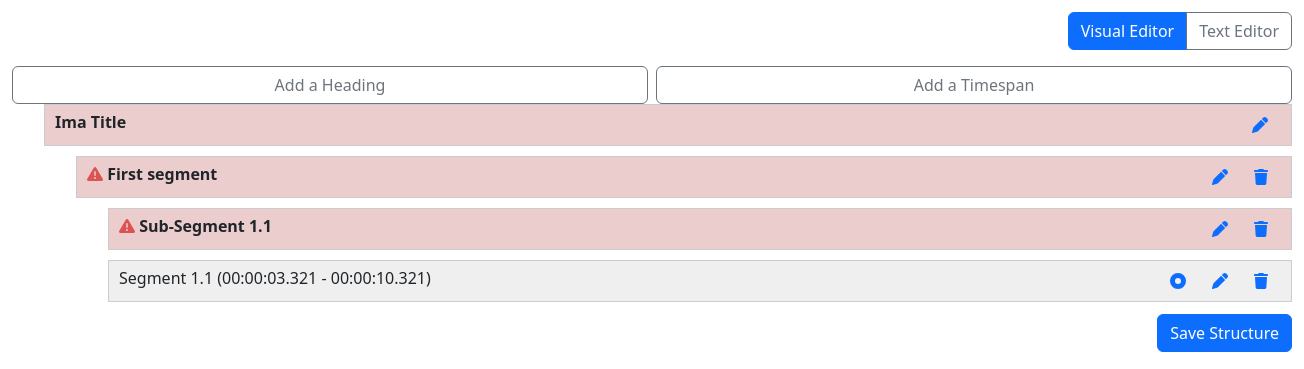
Test: StructureTabView component › with prop 'showTextEditor=true' › switches back to visual view when 'Visual Editor' button is clicked
Click the button with test id "text-editor-button".
click(1239, 31)  # box [1186,12,1292,50]
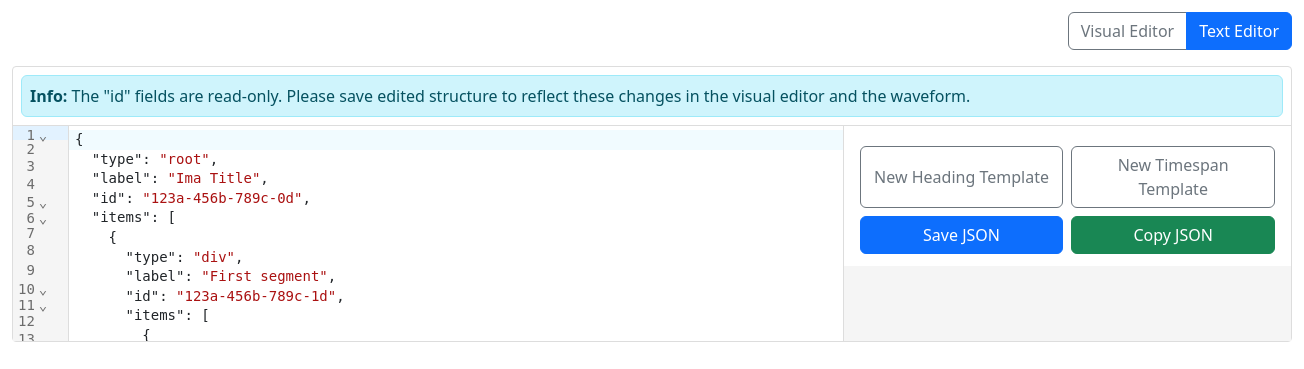
Result: the element with test id "codemirror-editor" is shown at [13,125,843,341]
Result: the element with test id "button-section" is gone
Click the button with test id "visual-editor-button".
click(1127, 31)  # box [1068,12,1187,50]
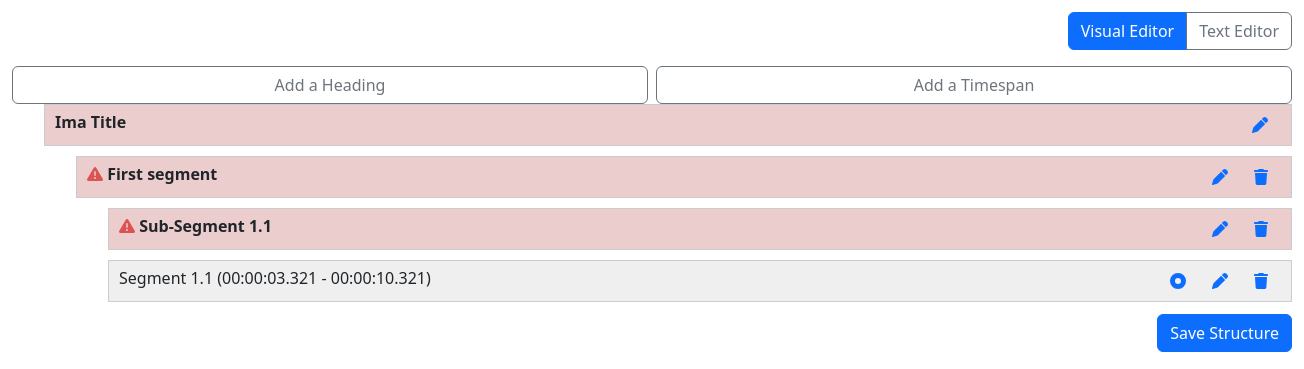
Result: the element with test id "button-section" is shown at [12,66,1292,104]
Result: the element with test id "structure-output-section" is shown
Result: the element with test id "codemirror-editor" is gone
